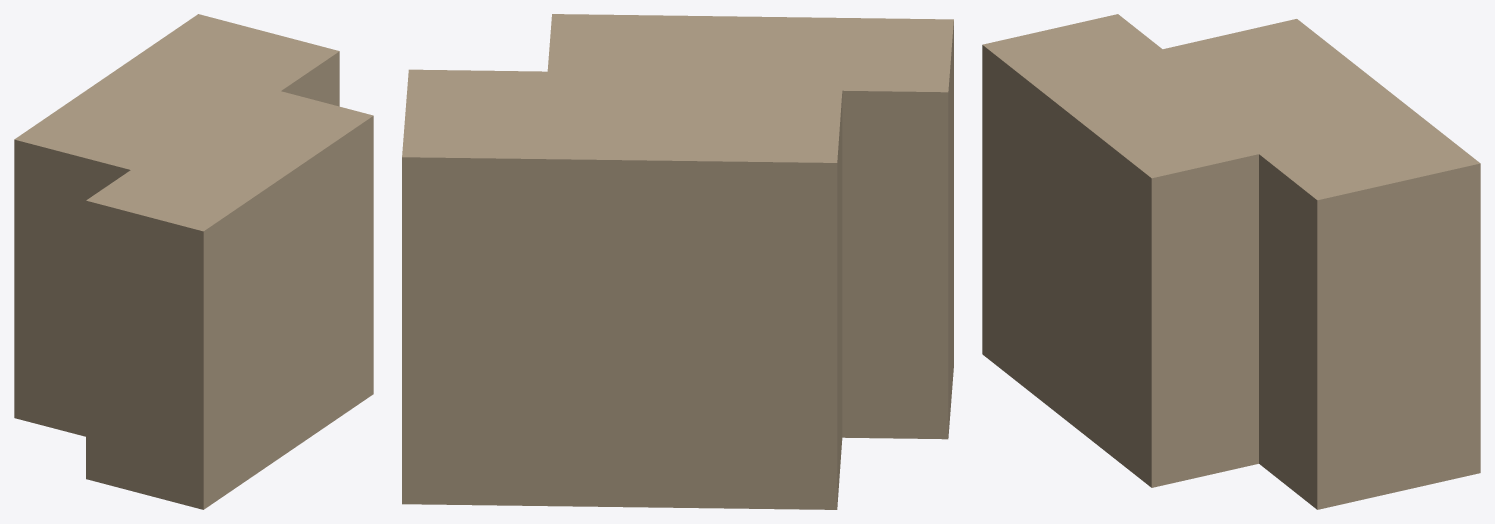
Rendered from bld_106415351.dae.
3 renders of one model, left to right at view 1: azimuth 30°, elevation 25°; view 2: azimuth 150°, elevation 25°; view 3: azimuth 270°, elevation 25°, orthographic. The views are drawn at different scales.
Parts seen in each view (by area): view 1: bld_106415351; view 2: bld_106415351; view 3: bld_106415351.
Boxes of the visible parts, x1,y1,x2,y2 form: bld_106415351: (14, 14, 373, 509); bld_106415351: (402, 14, 953, 509); bld_106415351: (982, 14, 1480, 509).
Size of the model in its own units: 10.32 by 11.67 by 8.
